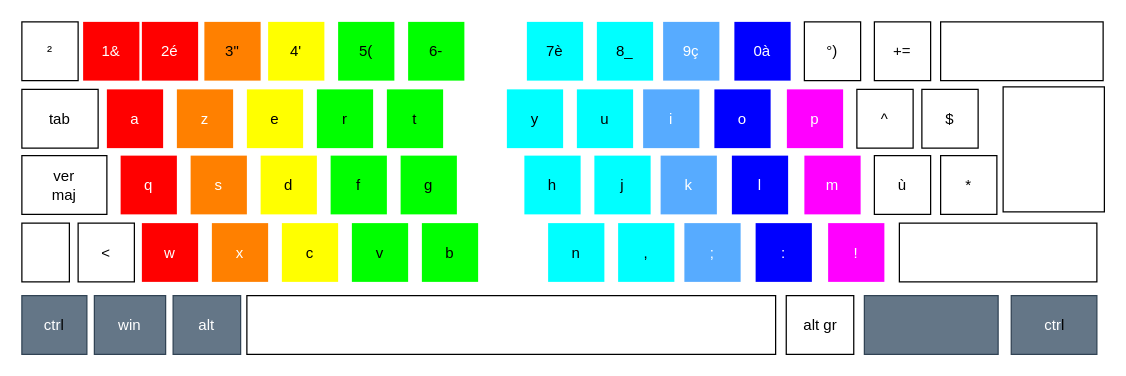
This 1126x376 diagram has some shape labels left out. Here are the shapes that lost their labels. From the top down, the centre of each, then its label:
At point 1021,51: "return".
At point 1053,149: "enter".
At point 45,252: "shift".
At point 997,252: "maj".
At point 511,324: "space".
At point 930,324: "menu ctx".
